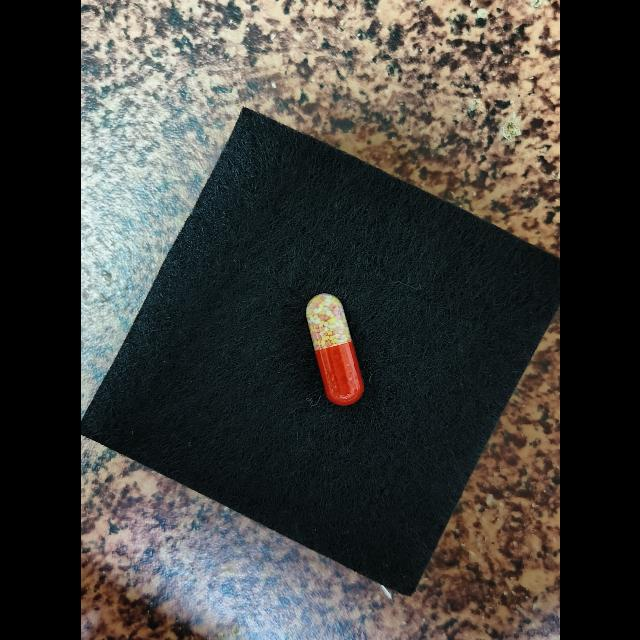Intact Capsule: (305, 293, 364, 405)
